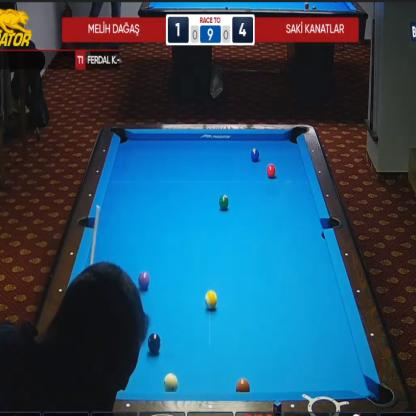Ball: (164, 372, 178, 392), (148, 333, 161, 354), (205, 290, 217, 310), (138, 271, 150, 290), (236, 378, 250, 392), (219, 194, 228, 211), (250, 148, 260, 162), (266, 164, 276, 178)
